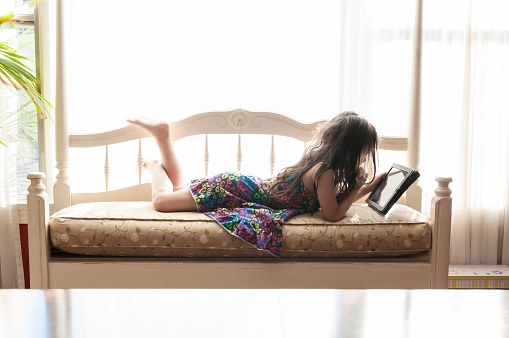deitado: (174, 112, 407, 233)
